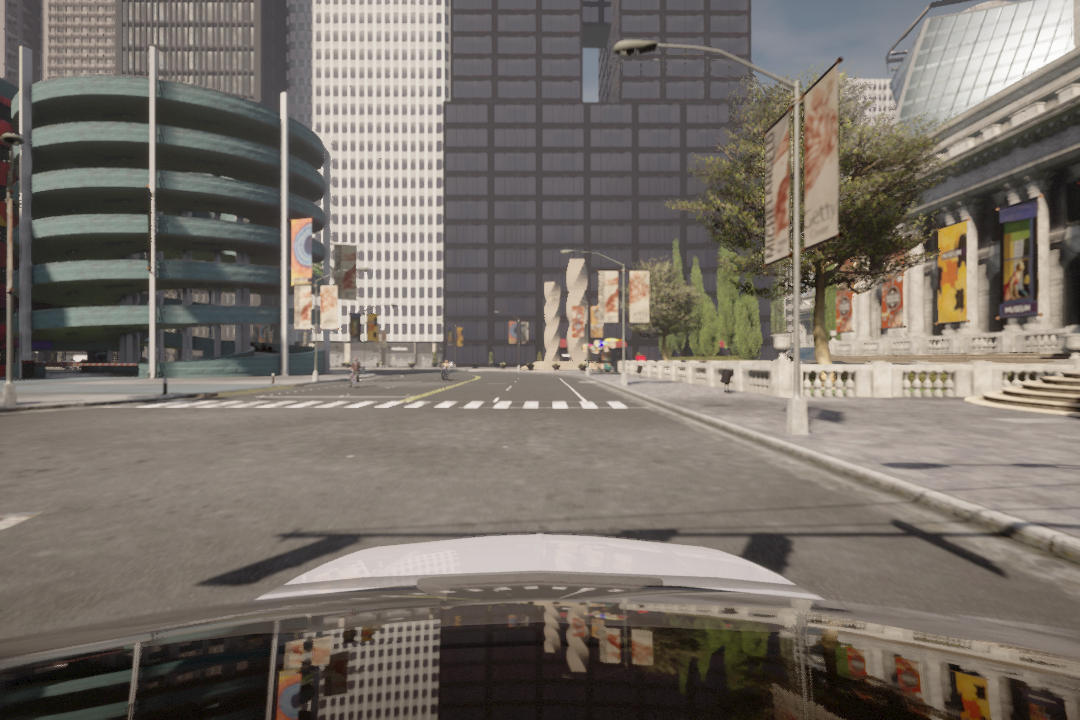walkside: (147, 397, 648, 411)
